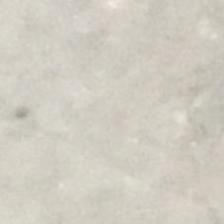Non_Crack: (12, 11, 223, 224)
